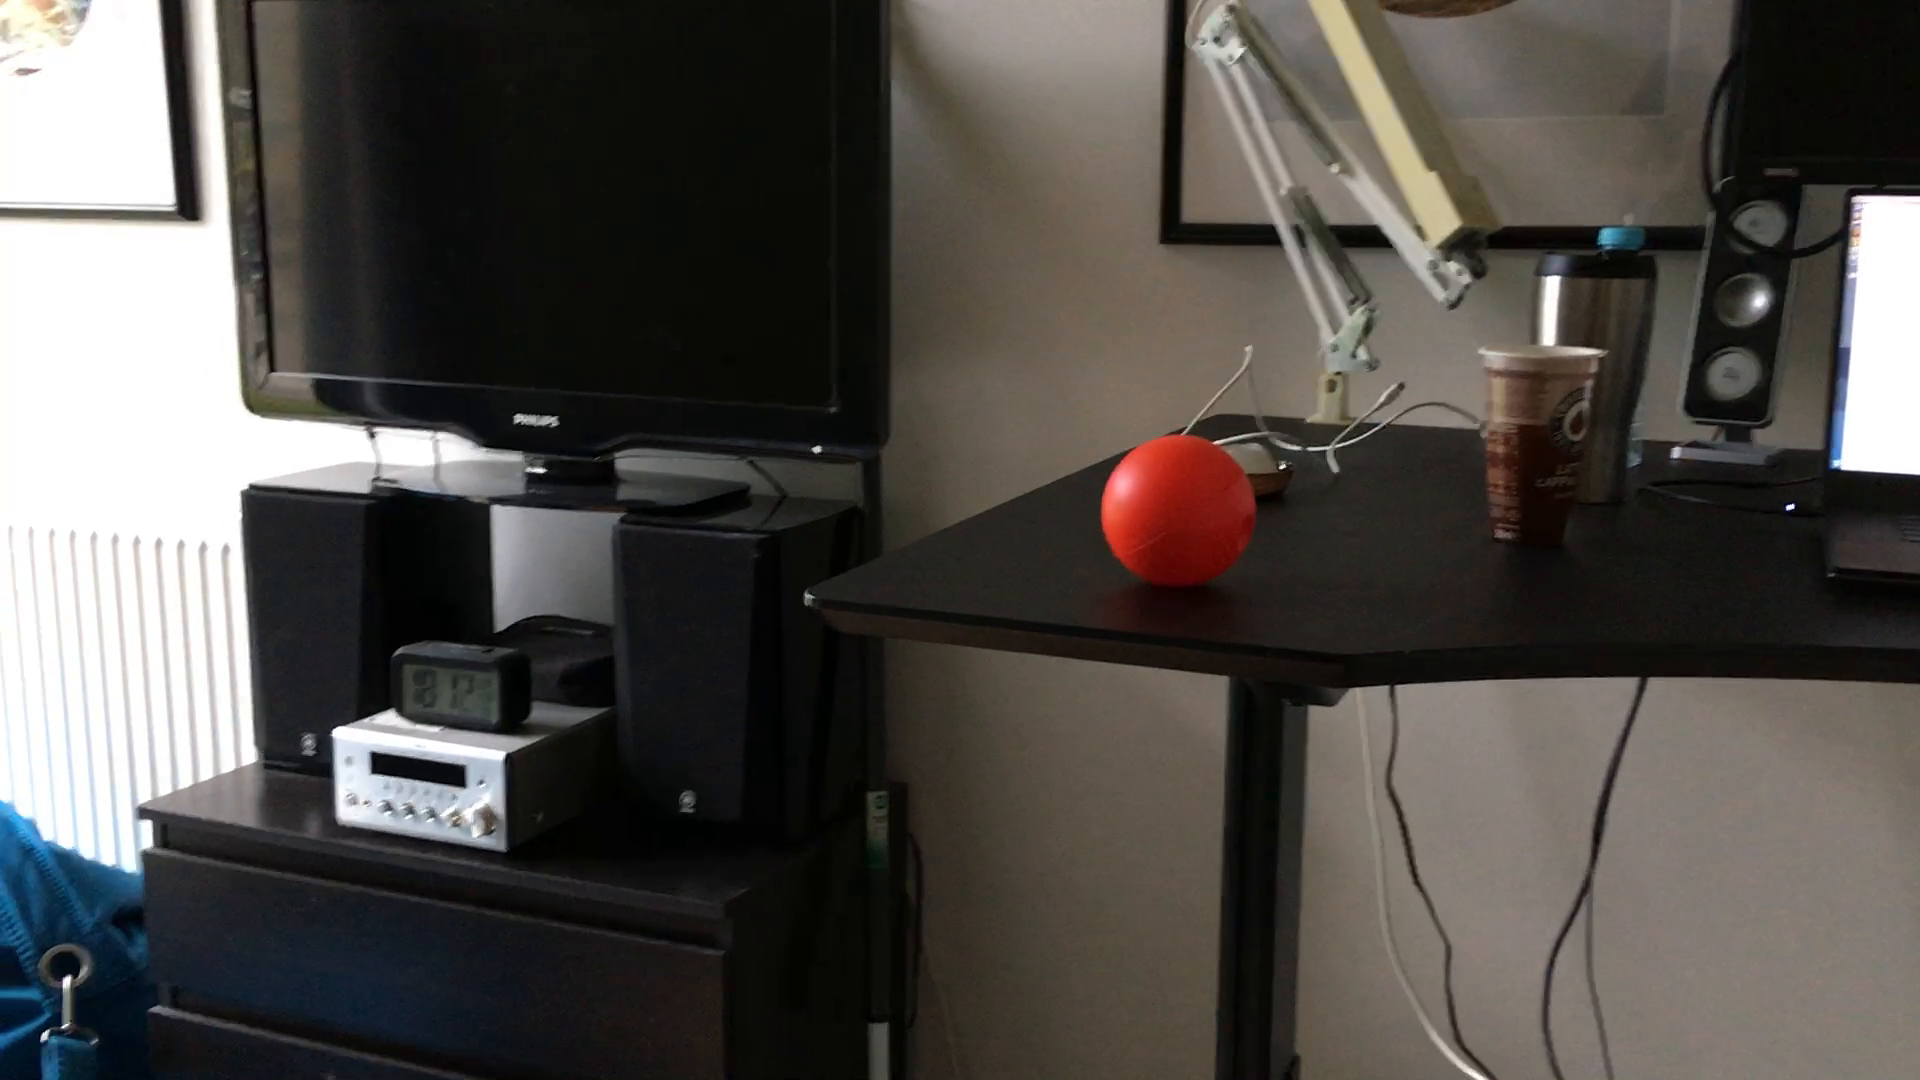Ball: (1098, 433, 1258, 584)
